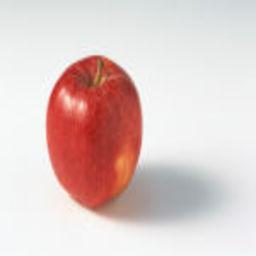apple: (44, 55, 144, 209)
